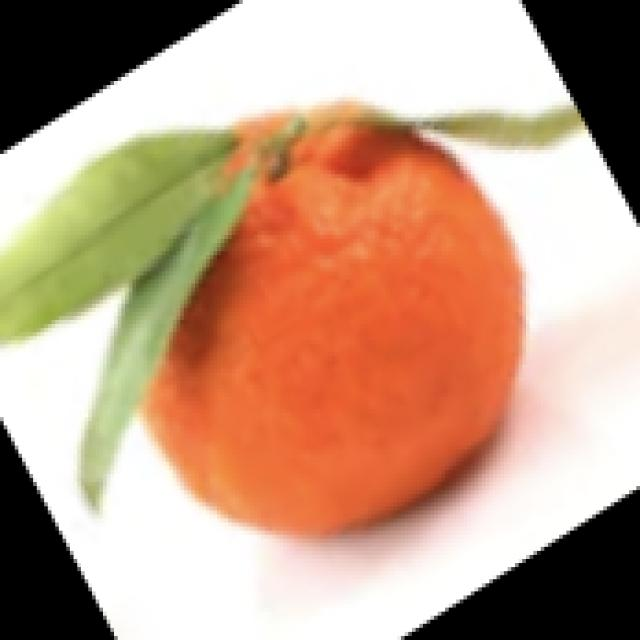fresh: (25, 100, 563, 554)
